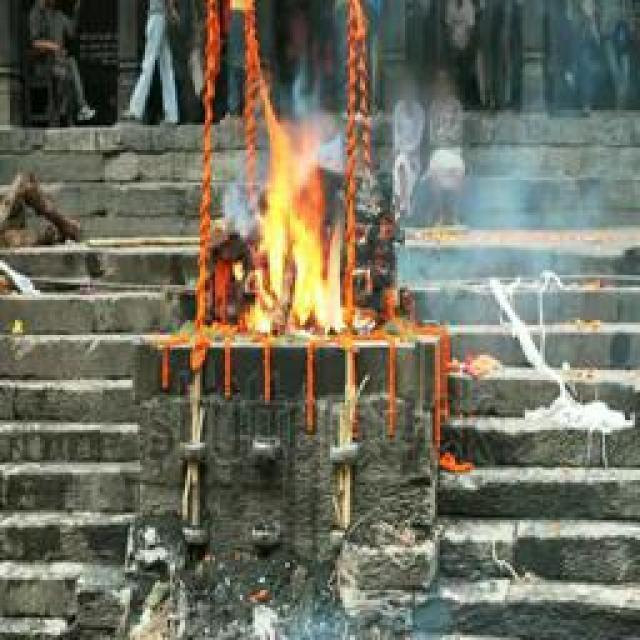Fire: (246, 97, 366, 341)
